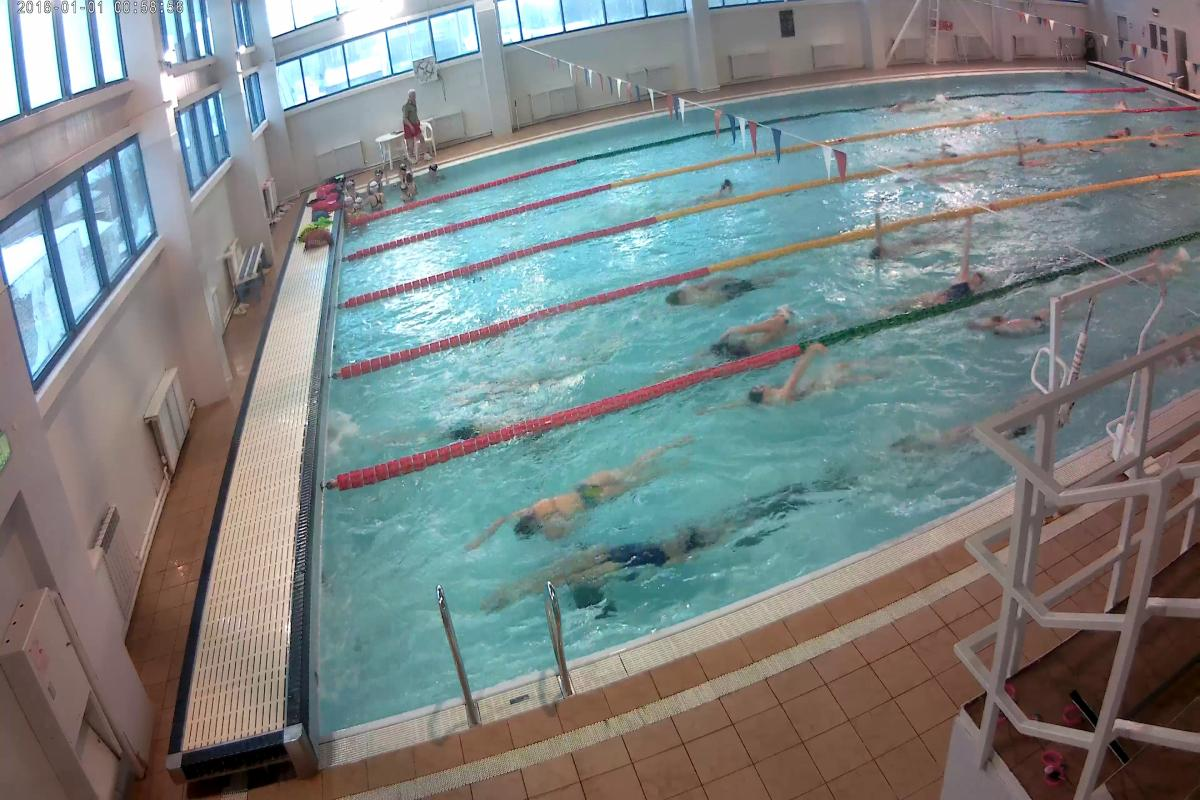swimmer: (518, 534, 720, 595), (506, 457, 662, 532), (758, 367, 864, 428), (710, 318, 806, 358), (859, 225, 956, 262), (882, 280, 966, 311), (448, 407, 530, 437), (670, 280, 783, 299), (990, 312, 1078, 330)
